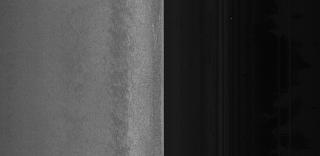silk spot: (106, 52, 138, 96)
